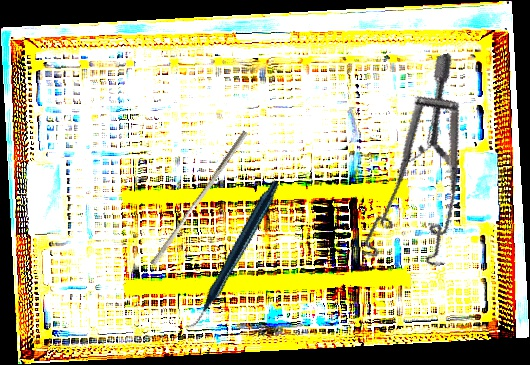Handpiece: (145, 178, 318, 331)
Pusher: (149, 126, 249, 270)
Speculum: (313, 52, 508, 286)
